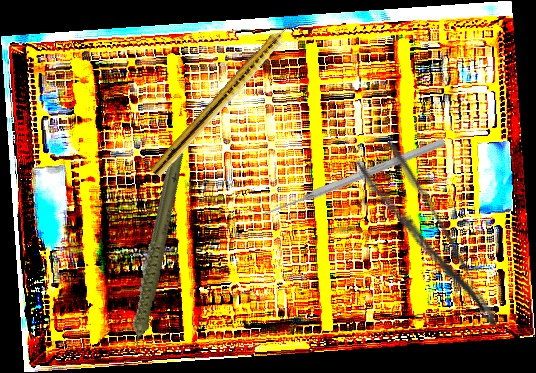Dressing Forceps: (352, 137, 502, 347)
Handpiece: (76, 146, 227, 368), (149, 13, 304, 181)
Pusher: (260, 135, 447, 221)
